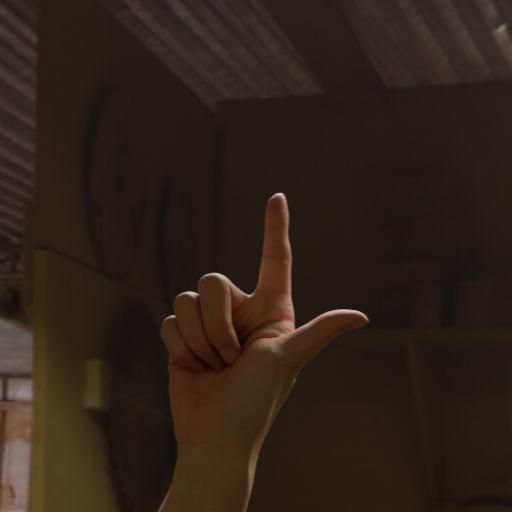L: (151, 176, 385, 487)
